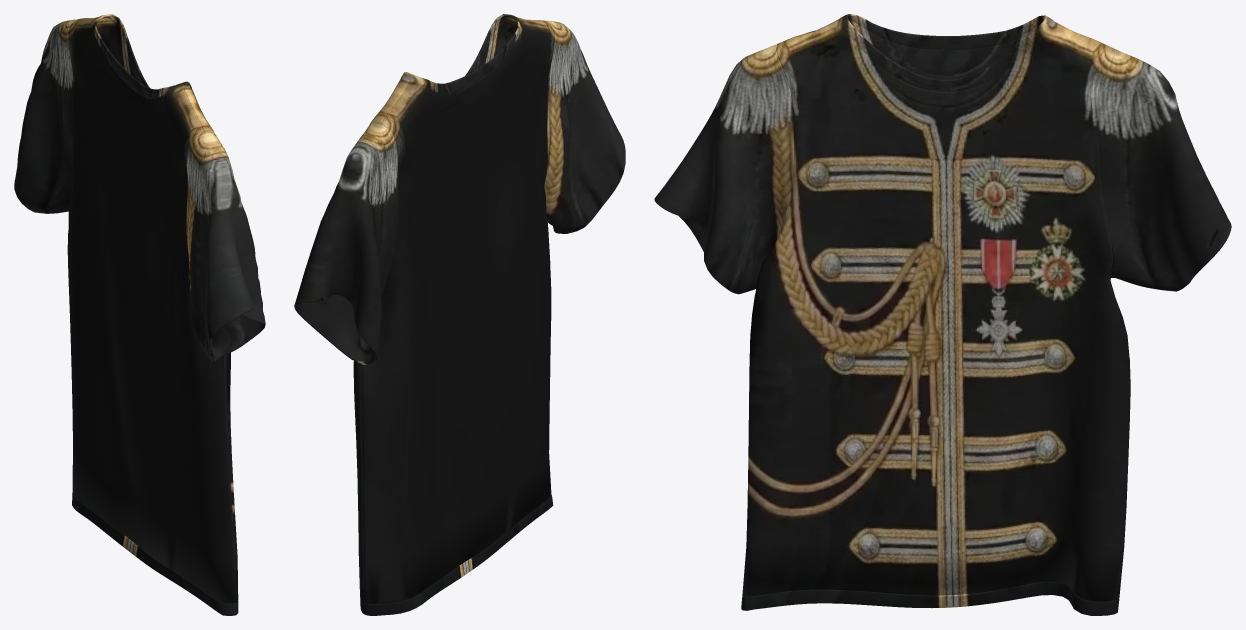
The model's file is band-director-tee.glb.
The picture shows the model from 3 angles, left to right: view 1: azimuth 30°, elevation 25°; view 2: azimuth 150°, elevation 25°; view 3: azimuth 270°, elevation 25°; orthographic projection. The views are drawn at different scales.
Visible parts, largest first — view 1: back_mesh_n3d%2E001_n3d, bottom_mesh_n3d%2E001_n3d; view 2: back_mesh_n3d%2E001_n3d, bottom_mesh_n3d%2E001_n3d; view 3: bottom_mesh_n3d%2E001_n3d, back_mesh_n3d%2E001_n3d.
Boxes of the visible parts, x1,y1,x2,y2 form: back_mesh_n3d%2E001_n3d: (67, 17, 237, 603); bottom_mesh_n3d%2E001_n3d: (14, 14, 265, 615); back_mesh_n3d%2E001_n3d: (361, 17, 555, 604); bottom_mesh_n3d%2E001_n3d: (294, 14, 625, 615); bottom_mesh_n3d%2E001_n3d: (654, 14, 1231, 615); back_mesh_n3d%2E001_n3d: (742, 19, 1127, 598).
Bounding box in the file's own units: 0.2669 × 1.44 × 1.27.
Materials: 6 (6 with a texture image).
